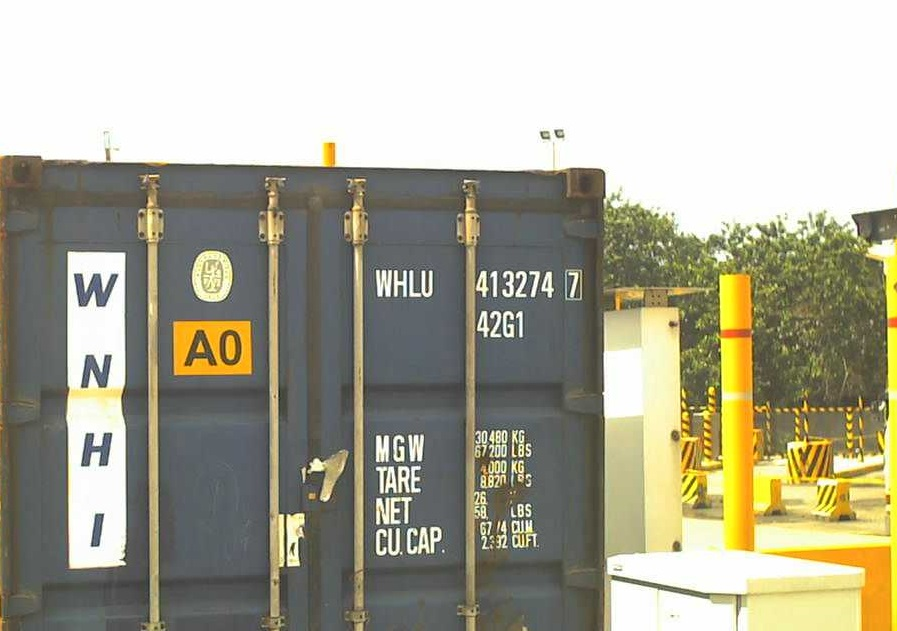container_door: (2, 148, 609, 631)
